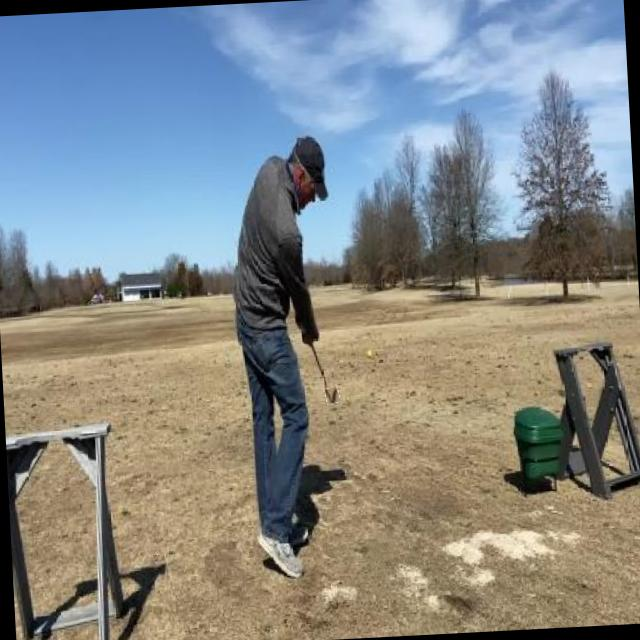club head: (324, 386, 340, 405)
